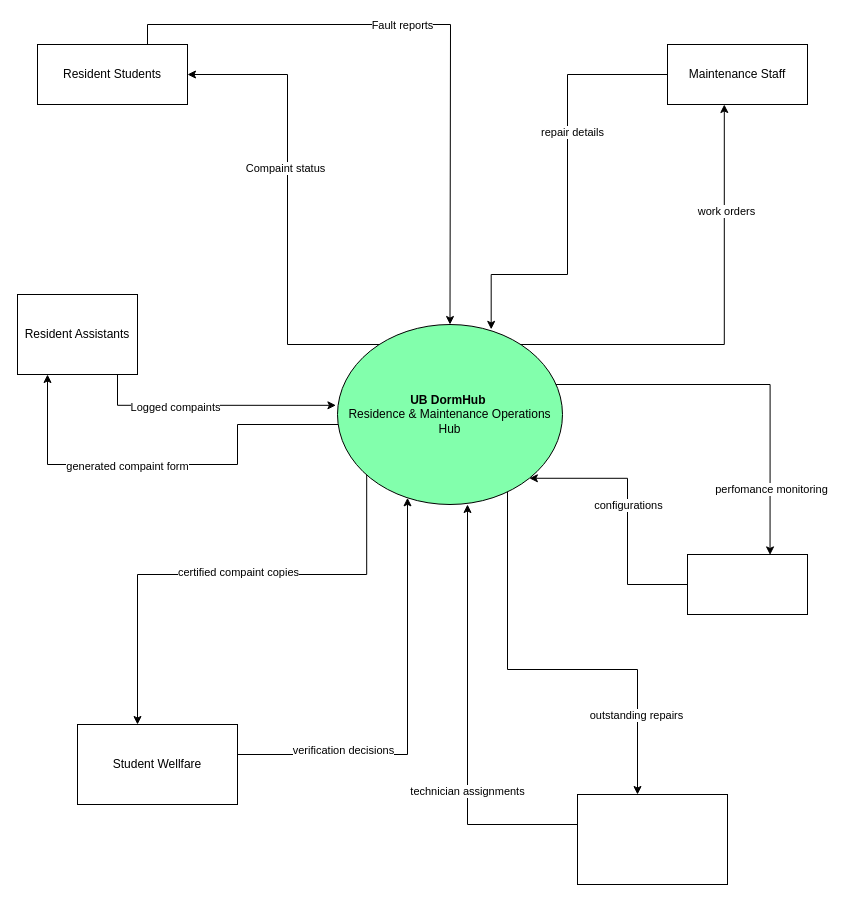
The diagram is 846 pixels wide and 902 high, and some of its shapes have lost their labels. The shapes that lost their labels are listed below. From the top down, each one's box as (x1, y1, x2, y2) in pixels, then its label:
(686, 554, 808, 614): University Management
(576, 794, 728, 884): Maintenance Manager
